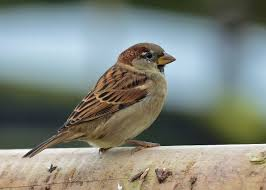hsparrow: (22, 41, 177, 174)
